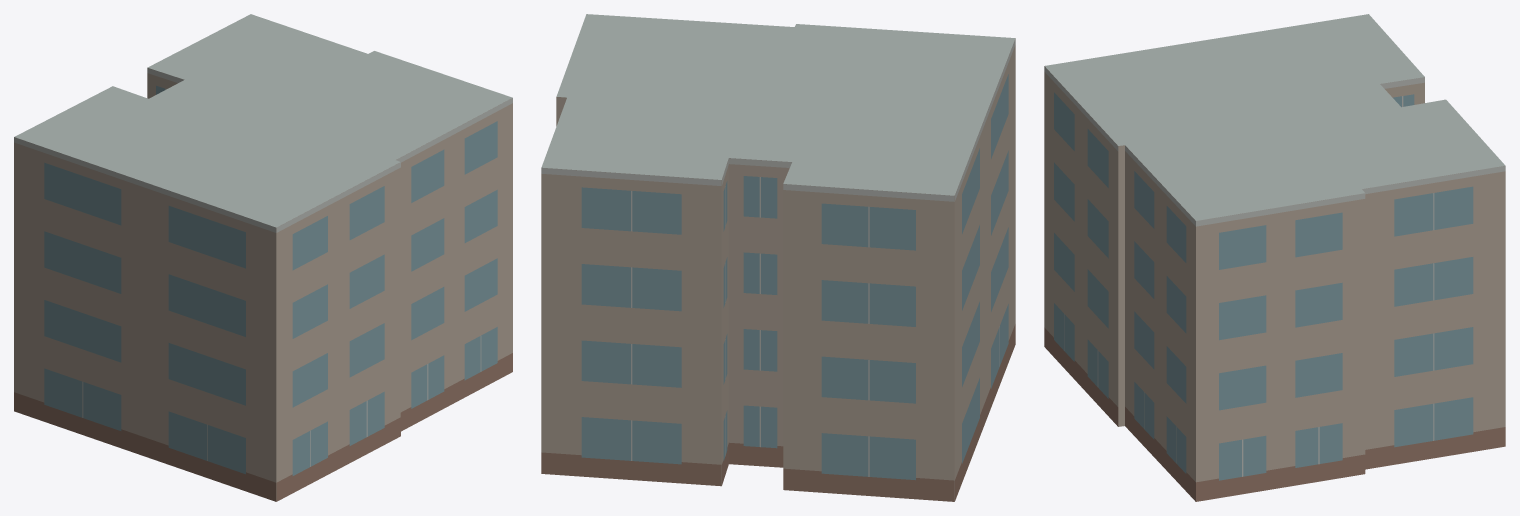
Rendered from survey-upis-33004791.glb.
3 renders of one model, left to right at view 1: azimuth 30°, elevation 25°; view 2: azimuth 150°, elevation 25°; view 3: azimuth 270°, elevation 25°, orthographic. The views are drawn at different scales.
Visible parts, largest first — view 1: survey-upis-33004791.tmp; view 2: survey-upis-33004791.tmp; view 3: survey-upis-33004791.tmp.
Part boxes in pixels (x1,y1,x2,y2): survey-upis-33004791.tmp: [14, 14, 512, 501]; survey-upis-33004791.tmp: [541, 14, 1015, 501]; survey-upis-33004791.tmp: [1044, 14, 1505, 501].
Size of the model in its own units: 19.38 by 12.25 by 18.24.
